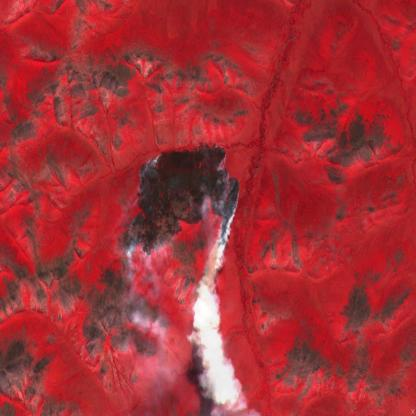fire: (123, 139, 242, 297)
